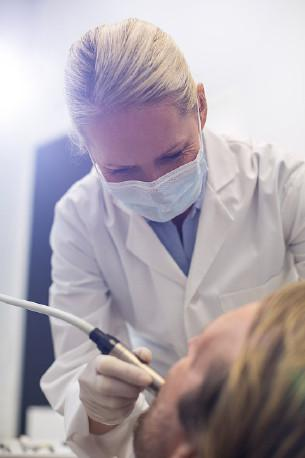OK: (97, 132, 205, 226)
